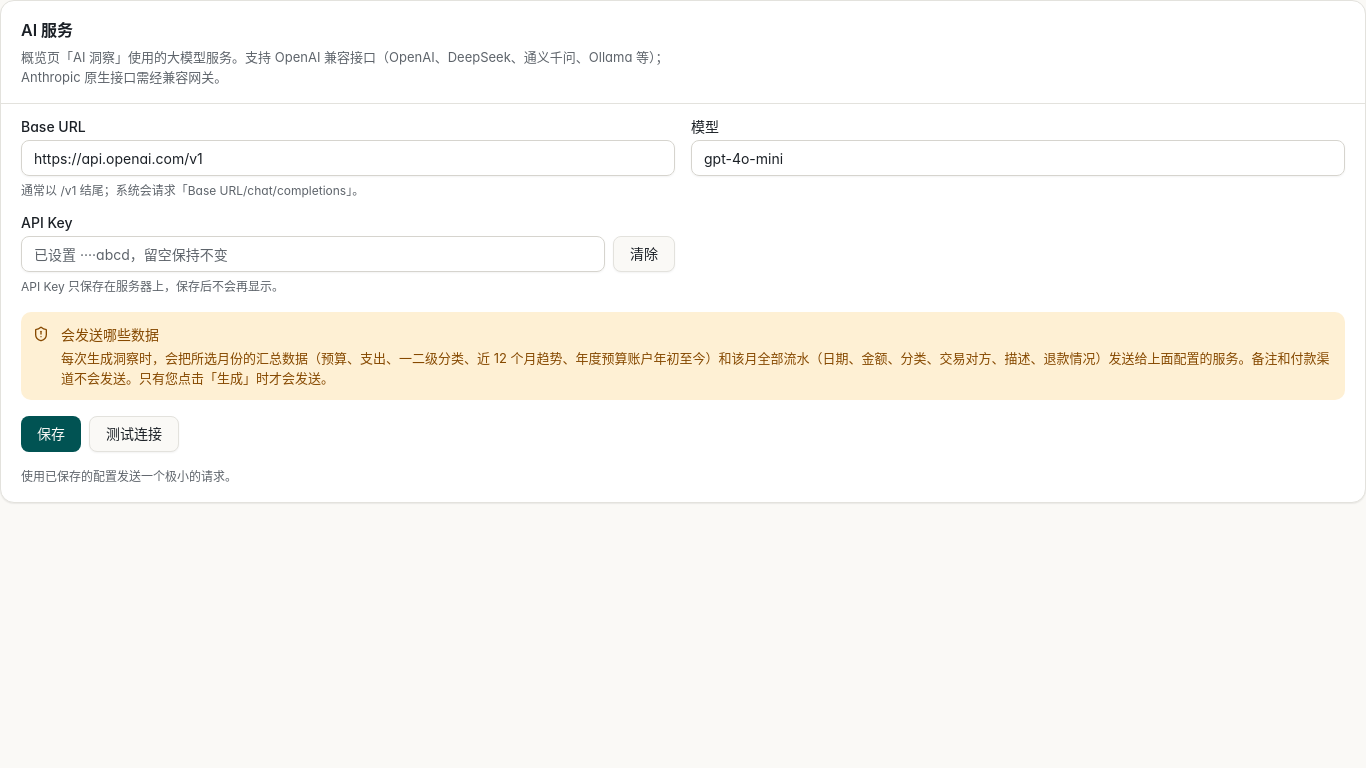
Test: AiSection › tests the saved configuration and shows the latency
Click the button "测试连接": point(134, 434) [89,416,179,452]
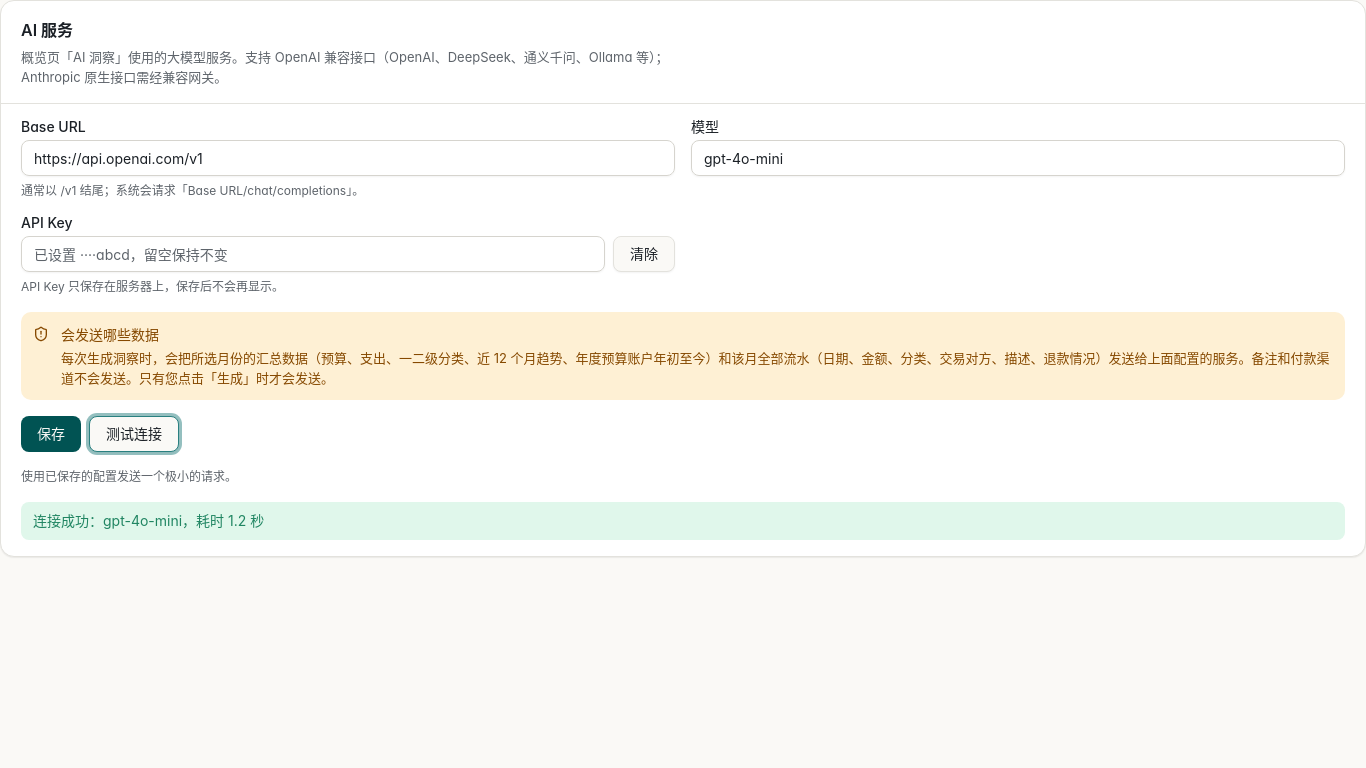
Expected: the text "连接成功：gpt-4o-mini，耗时 1.2 秒" is shown, [21,502,1345,540]
